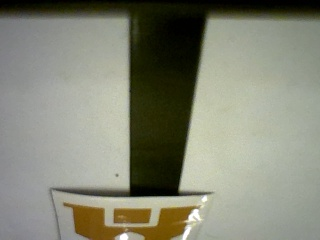Rescue_Station: (62, 201, 202, 240)
